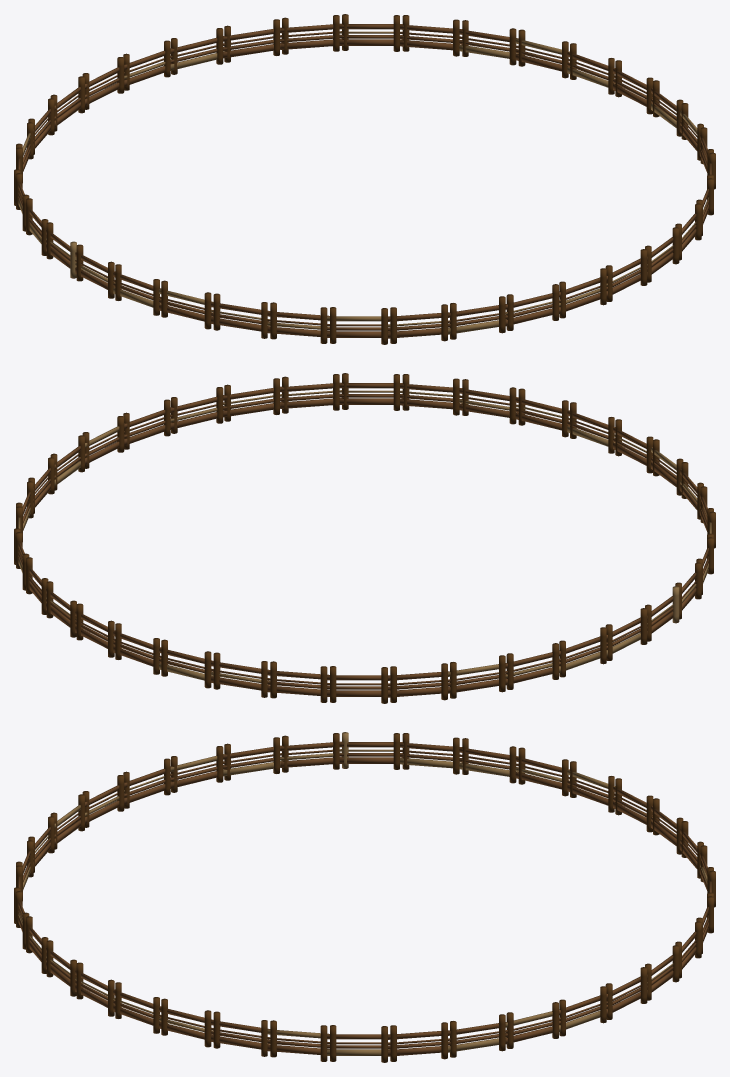
The model's file is croft.obj.
The picture shows the model from 3 angles, top to bottom: view 1: azimuth 30°, elevation 25°; view 2: azimuth 150°, elevation 25°; view 3: azimuth 270°, elevation 25°; orthographic projection.
Visible parts, largest first — view 1: Plotek022; view 2: Plotek022; view 3: Plotek022.
Boxes of the visible parts, x1=… form: Plotek022: x1=14, y1=14, x2=715, y2=344; Plotek022: x1=14, y1=373, x2=715, y2=703; Plotek022: x1=14, y1=732, x2=715, y2=1062.
Size of the model in its own units: 37.28 by 2 by 37.28.
1 material, 1 textured.
